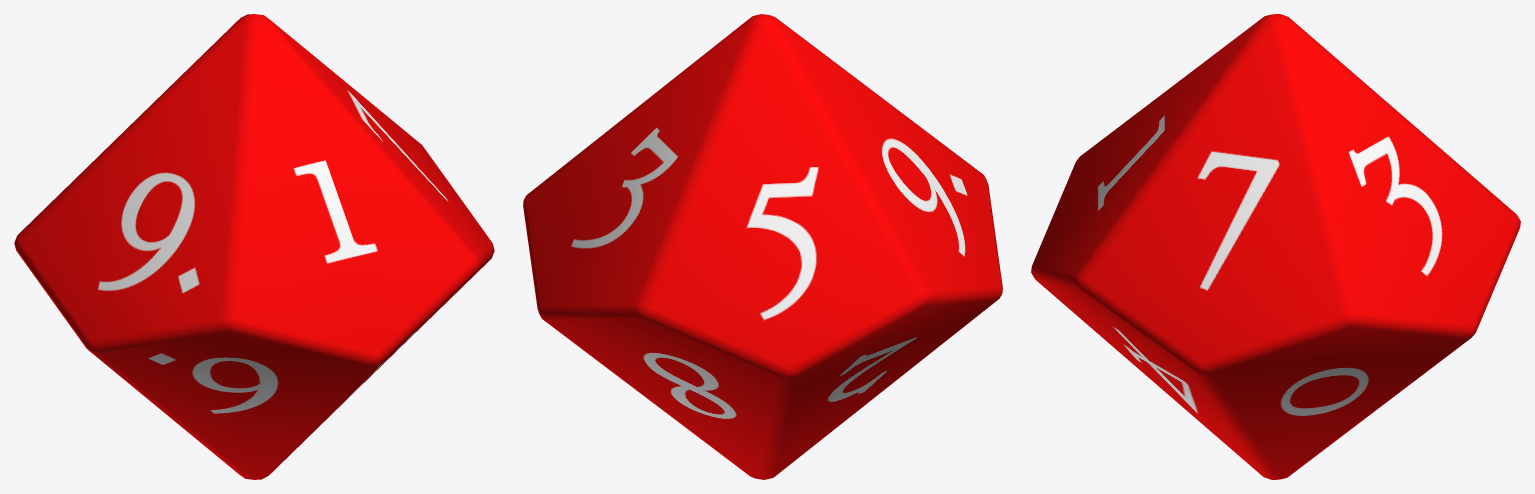
The picture shows the model from 3 angles, left to right: view 1: azimuth 30°, elevation 25°; view 2: azimuth 150°, elevation 25°; view 3: azimuth 270°, elevation 25°; orthographic projection.
Parts seen in each view (by area): view 1: D10; view 2: D10; view 3: D10.
Part boxes in pixels (box(x1,y1,x2,y2)): D10: box(14, 14, 494, 479); D10: box(523, 14, 1002, 479); D10: box(1031, 14, 1520, 479).
Bounding box in the file's own units: 0.5926 × 0.6503 × 0.6198.
Materials: 1 (1 with a texture image).
